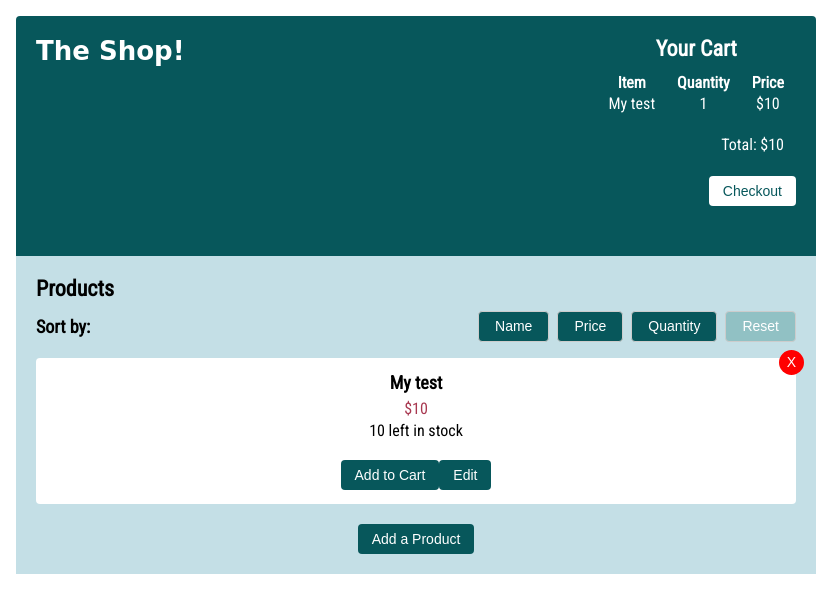
Test case: Checkout removes cart items
Click the button "Checkout". click: {"x": 752, "y": 191}
box: [709,176,796,206]
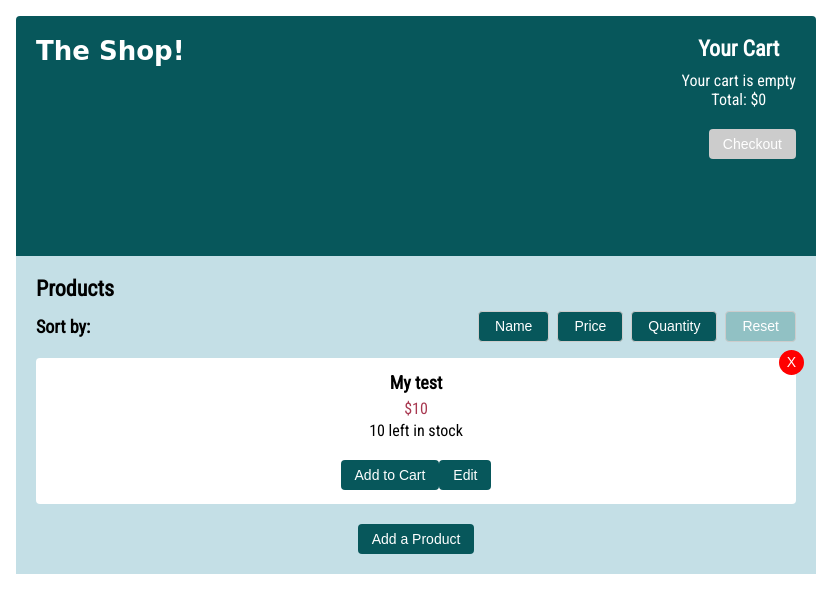
expect the text "Your cart is empty" is shown: met, box [682,71,796,90]
